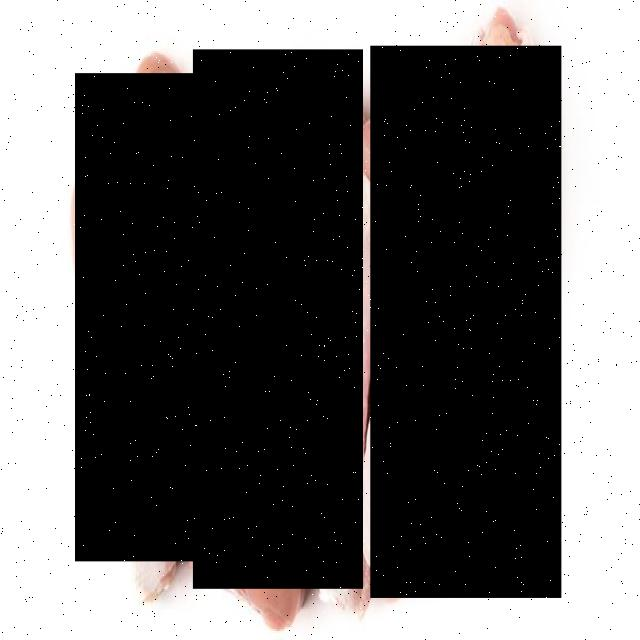Chicken: (371, 46, 562, 599), (193, 51, 363, 591), (76, 74, 201, 562)
